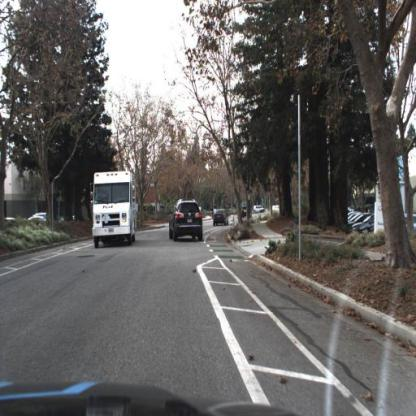car: (169, 198, 206, 244), (212, 208, 230, 229), (402, 213, 416, 240), (27, 217, 47, 225), (254, 203, 265, 214), (242, 207, 250, 219), (35, 212, 47, 218)
truck: (89, 171, 139, 250)
